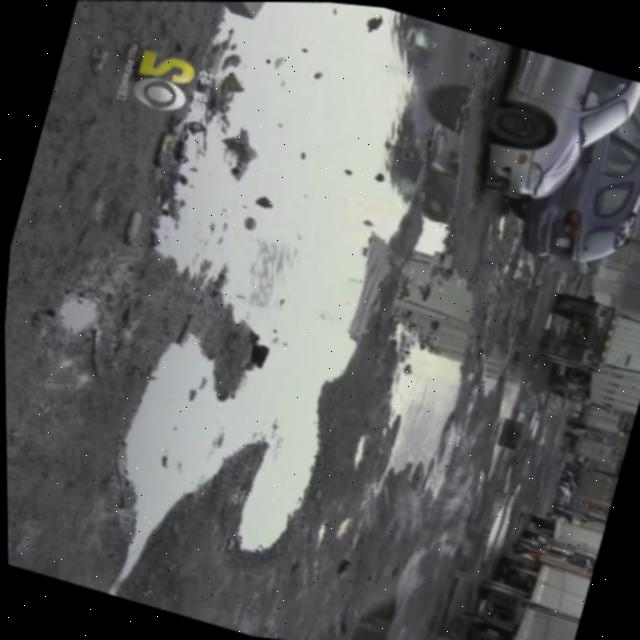Pothole: (0, 0, 460, 640), (323, 126, 545, 513), (326, 532, 438, 640), (321, 502, 366, 559), (342, 422, 369, 476), (304, 516, 334, 553)
